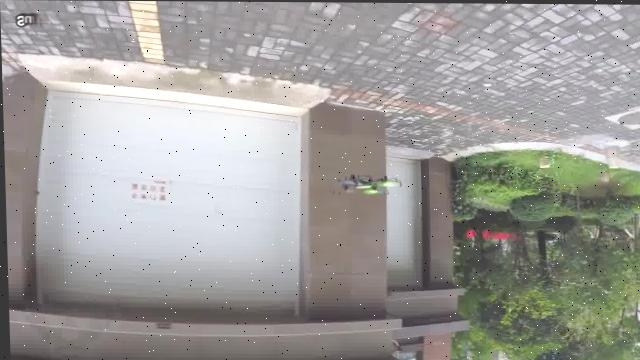drone: (329, 168, 402, 204)
